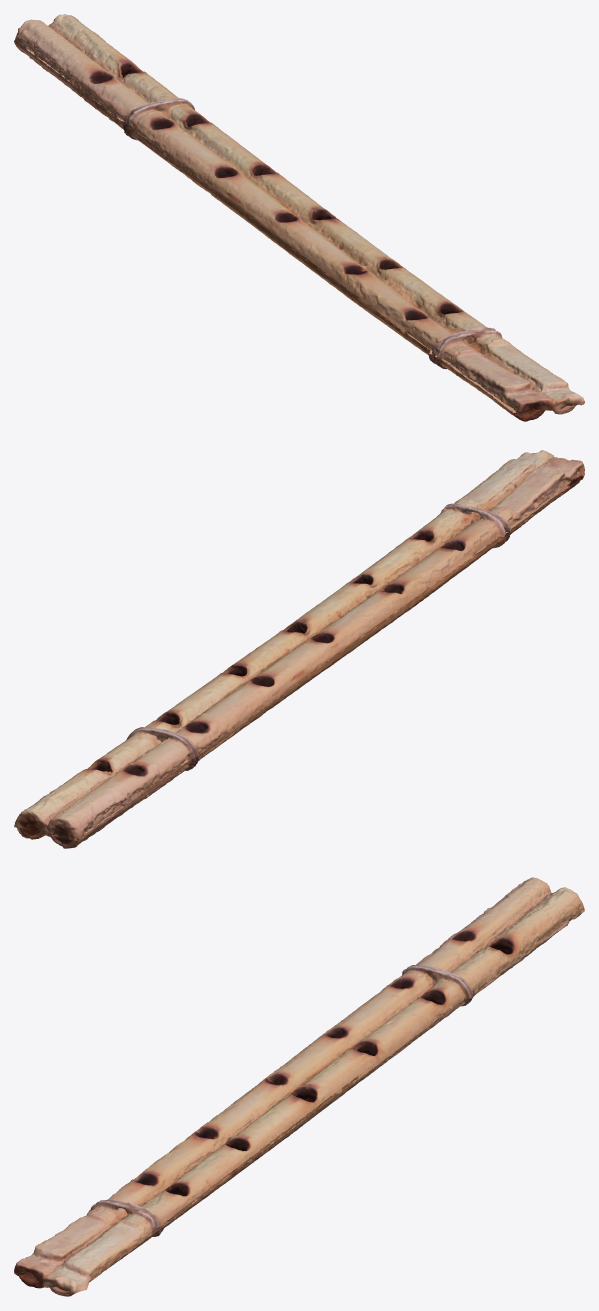
Rendered from zimeixiao.fbx.
The picture shows the model from 3 angles, top to bottom: view 1: azimuth 30°, elevation 25°; view 2: azimuth 150°, elevation 25°; view 3: azimuth 330°, elevation 25°; orthographic projection.
Visible parts, largest first — view 1: SHANGBAN_LOD0; view 2: SHANGBAN_LOD0; view 3: SHANGBAN_LOD0.
Part boxes in pixels (x1,y1,x2,y2): SHANGBAN_LOD0: (14, 14, 584, 421); SHANGBAN_LOD0: (14, 450, 584, 848); SHANGBAN_LOD0: (14, 877, 584, 1296).
Size of the model in its own units: 457 by 250 by 5326.
